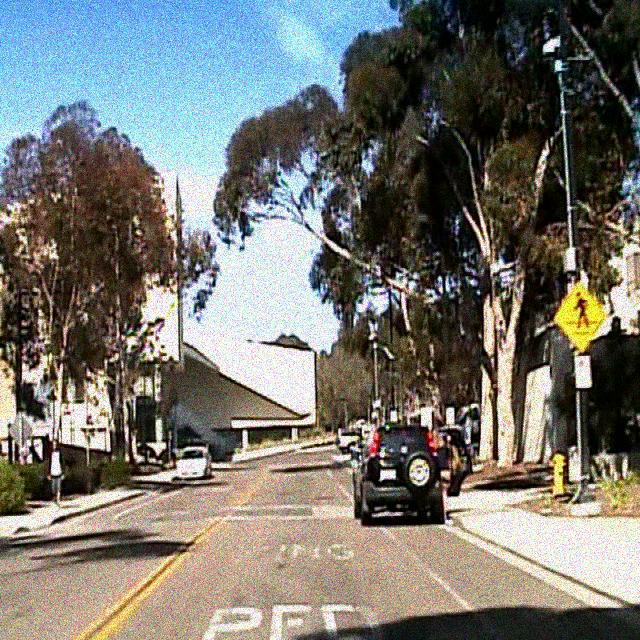pedestrianCrossing: (552, 281, 604, 352)
